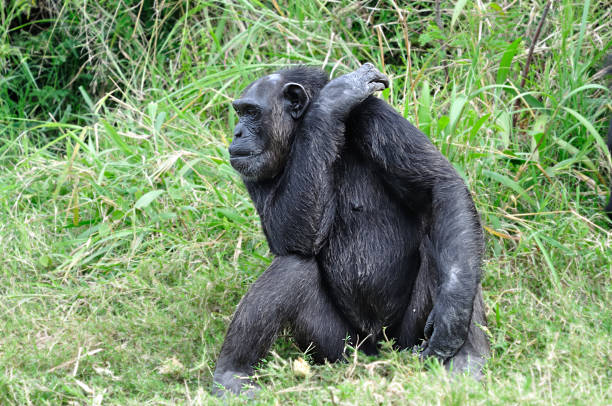chimpanzee: (218, 57, 307, 196)
